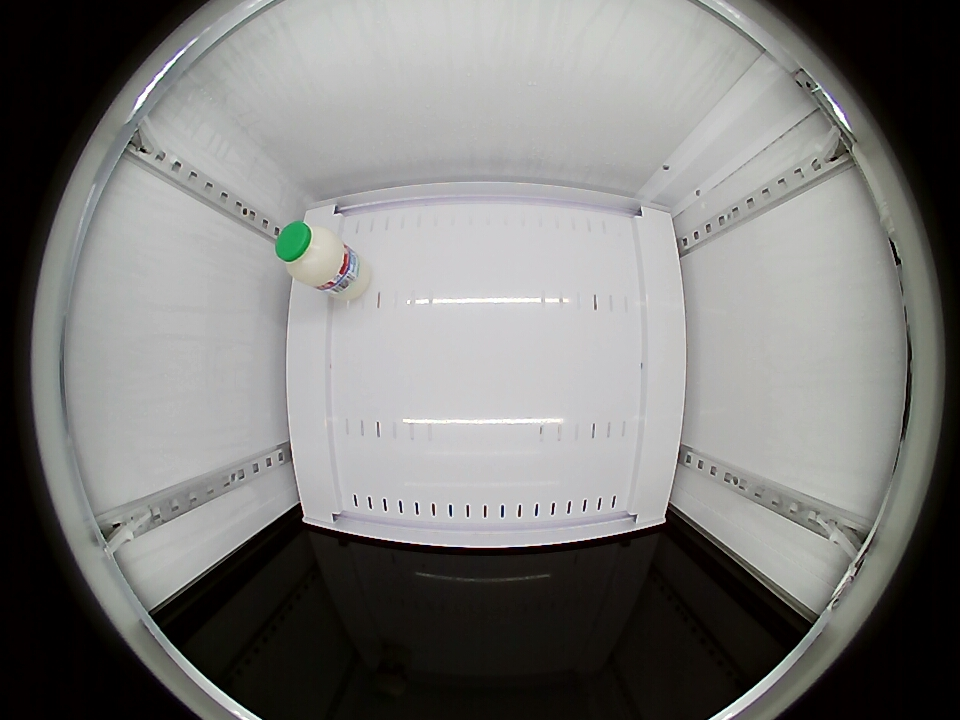liziyuan: (275, 219, 347, 288)
